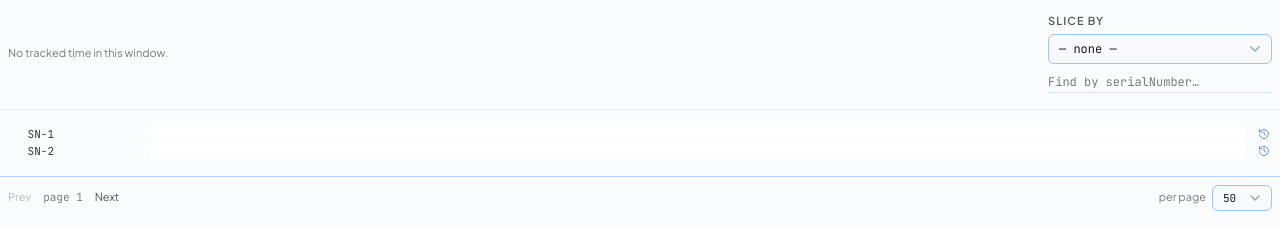
Scenario: EntityLensView entity table › advancing the page offsets the dwell query
The image size is (1280, 228).
Click the button "Next" at (107, 198), box [95,189,119,206]
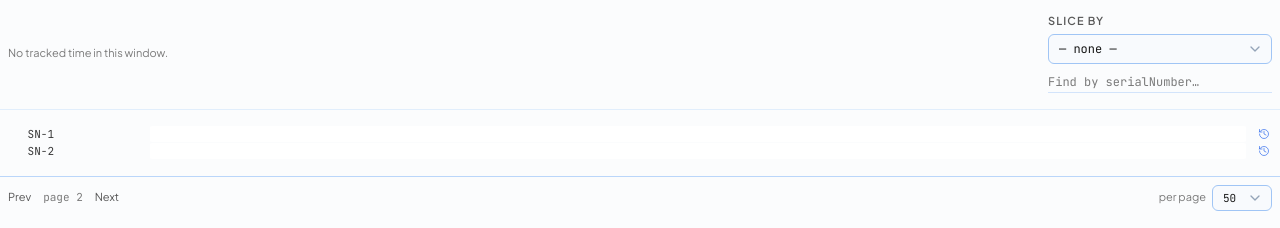
Result: the text "page 2" is shown at [43,189,83,206]
